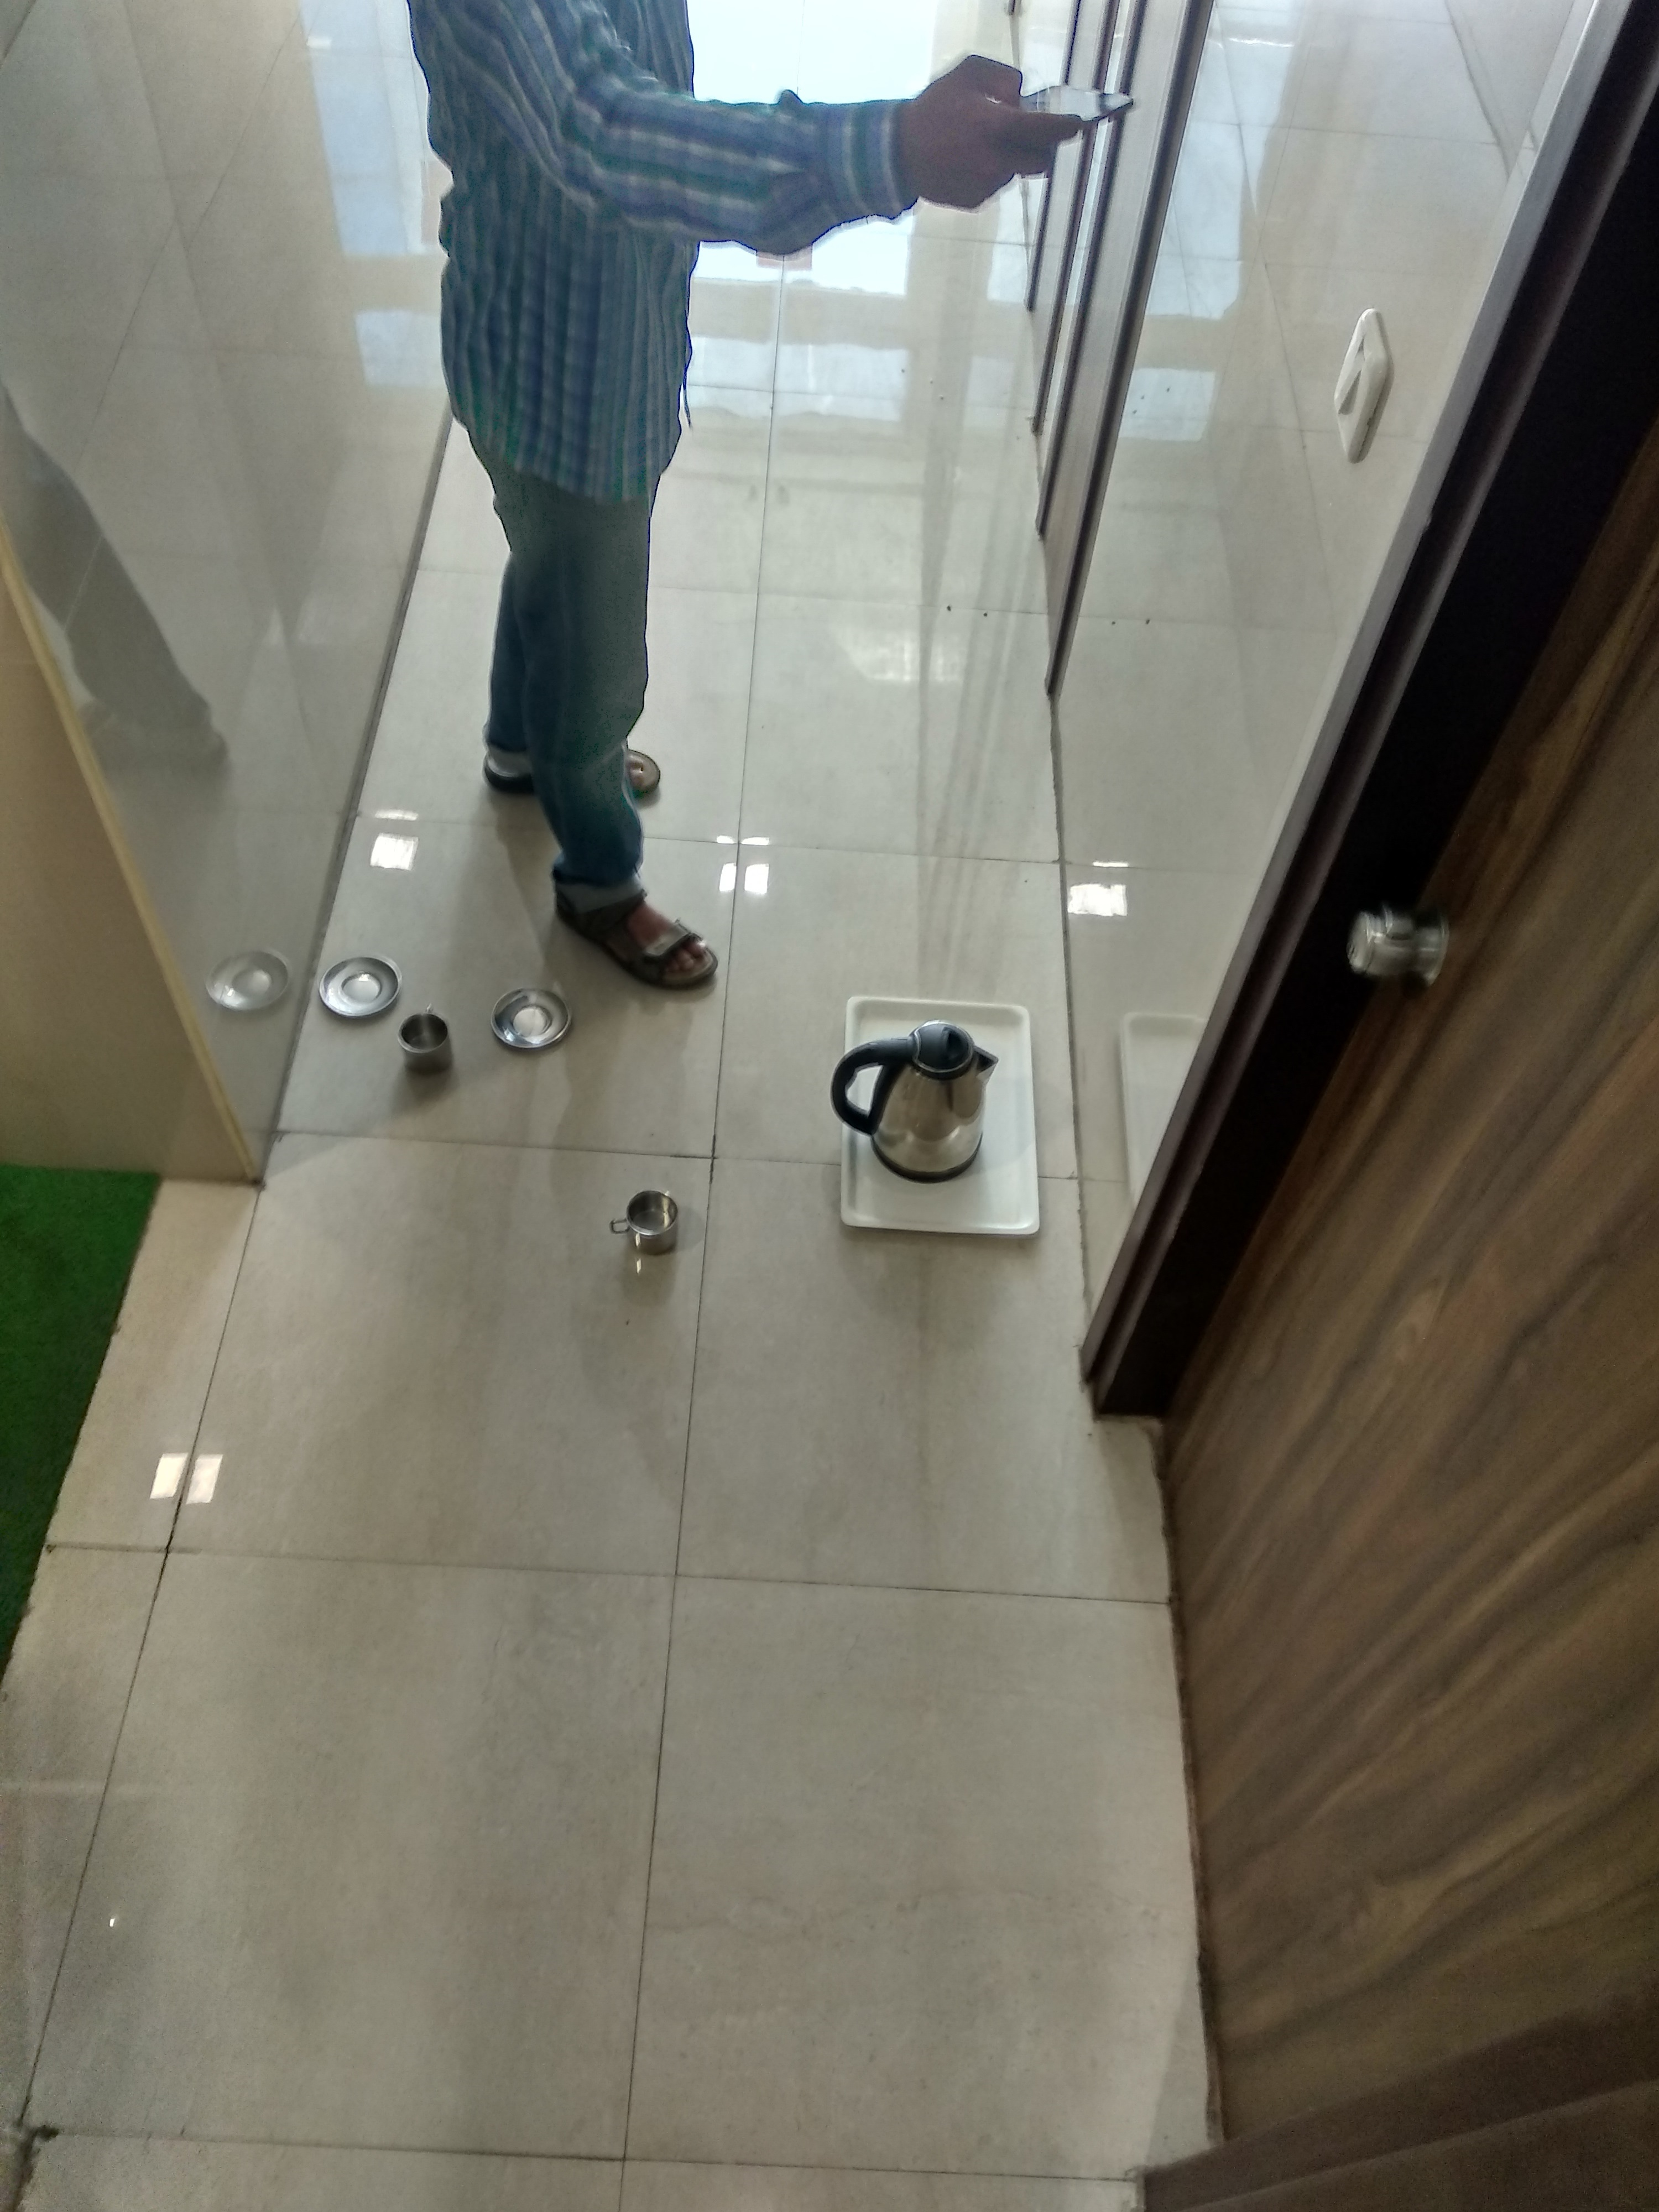CUP: (626, 1184, 683, 1258), (394, 1015, 458, 1078)
FLASK: (856, 1015, 1000, 1190)
